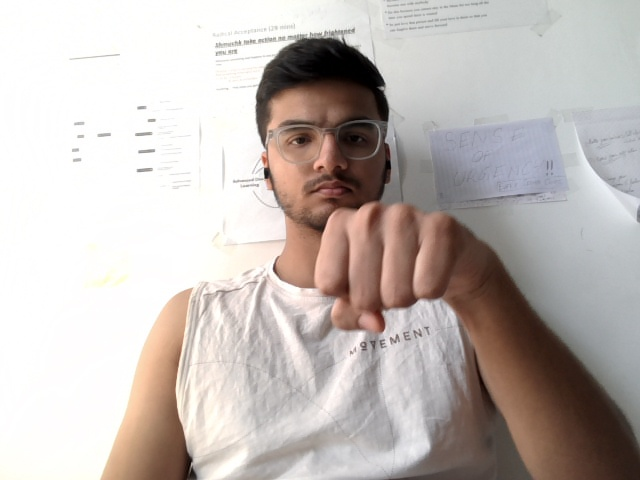yes: (305, 193, 520, 334)
